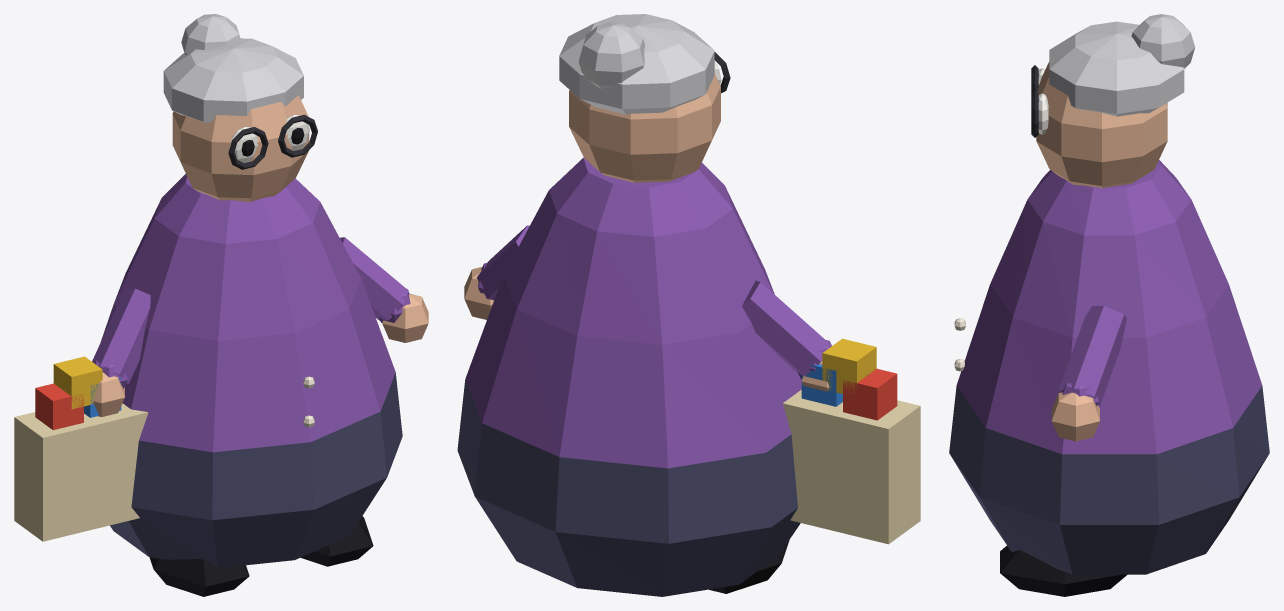
File: npc_dona_ramona.glb
The picture shows the model from 3 angles, left to right: view 1: azimuth 30°, elevation 25°; view 2: azimuth 150°, elevation 25°; view 3: azimuth 270°, elevation 25°; orthographic projection. The views are drawn at different scales.
Visible parts, largest first — view 1: body_ramona_cardigan, body_ramona_skirt, bag_ramona_bag, hair_ramona_hair, head_skin_ramona, arms_ramona_cardigan, legs_black, arms_skin_ramona, gifts_f2c230_gift_f2c230, gifts_e84a3a_gift_e84a3a, glasses_ramona_glasses, face_white; view 2: body_ramona_cardigan, body_ramona_skirt, bag_ramona_bag, hair_ramona_hair, head_skin_ramona, arms_ramona_cardigan, gifts_e84a3a_gift_e84a3a, gifts_f2c230_gift_f2c230, arms_skin_ramona, gifts_3a8ae8_gift_3a8ae8, legs_black; view 3: body_ramona_cardigan, body_ramona_skirt, hair_ramona_hair, head_skin_ramona, arms_ramona_cardigan, legs_black, arms_skin_ramona, glasses_ramona_glasses, face_white.
Part boxes in pixels (box(x1,y1,x2,y2)): body_ramona_cardigan: box(101, 174, 395, 452); body_ramona_skirt: box(110, 373, 402, 567); bag_ramona_bag: box(14, 403, 148, 541); hair_ramona_hair: box(163, 14, 303, 122); head_skin_ramona: box(172, 95, 309, 202); arms_ramona_cardigan: box(92, 237, 410, 388); legs_black: box(149, 516, 373, 596); arms_skin_ramona: box(93, 294, 428, 416); gifts_f2c230_gift_f2c230: box(53, 356, 102, 409); gifts_e84a3a_gift_e84a3a: box(35, 383, 83, 430); glasses_ramona_glasses: box(228, 114, 317, 169); face_white: box(229, 115, 309, 163); body_ramona_cardigan: box(465, 157, 801, 468); body_ramona_skirt: box(457, 380, 800, 596); bag_ramona_bag: box(783, 390, 920, 544); hair_ramona_hair: box(559, 14, 714, 114); head_skin_ramona: box(569, 74, 720, 182); arms_ramona_cardigan: box(477, 225, 831, 378); gifts_e84a3a_gift_e84a3a: box(843, 368, 897, 420); gifts_f2c230_gift_f2c230: box(822, 338, 876, 393); arms_skin_ramona: box(464, 267, 829, 391); gifts_3a8ae8_gift_3a8ae8: box(801, 364, 842, 406); legs_black: box(709, 540, 789, 593); body_ramona_cardigan: box(956, 160, 1262, 454); body_ramona_skirt: box(949, 386, 1269, 574); hair_ramona_hair: box(1049, 14, 1195, 116); head_skin_ramona: box(1036, 61, 1167, 187); arms_ramona_cardigan: box(1059, 305, 1126, 405); legs_black: box(1000, 545, 1127, 596); arms_skin_ramona: box(1051, 392, 1099, 441); glasses_ramona_glasses: box(1031, 65, 1038, 137); face_white: box(1038, 68, 1048, 134).
Size of the model in its own units: 1.29 by 1.6 by 0.86.
